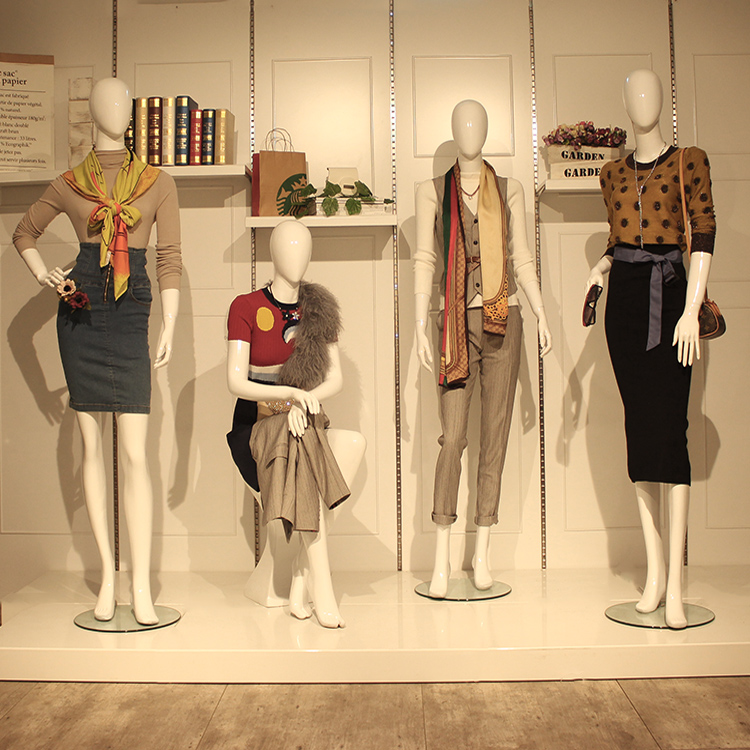person-like: (9, 72, 190, 630), (579, 63, 727, 635), (404, 95, 556, 601), (222, 213, 360, 634)
